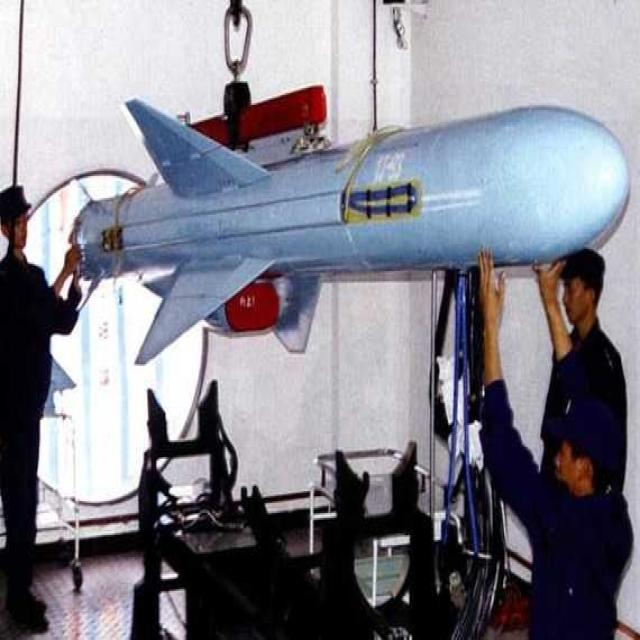missile: (68, 92, 628, 402)
